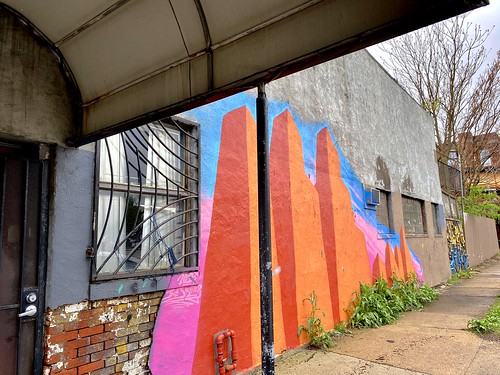building: (1, 2, 441, 375)
graffiti: (203, 112, 418, 358)
tree: (394, 8, 500, 186)
